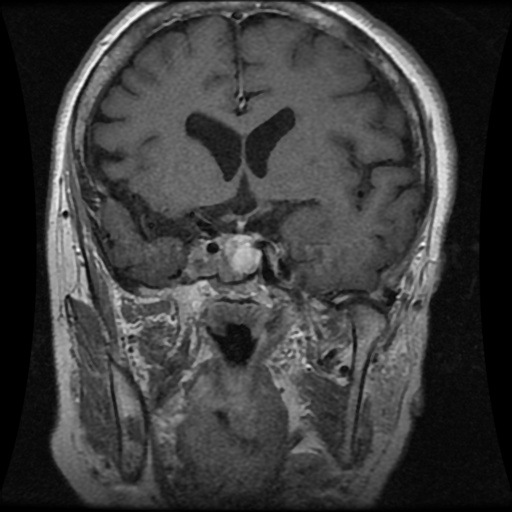pituitary: (221, 235, 260, 281)
